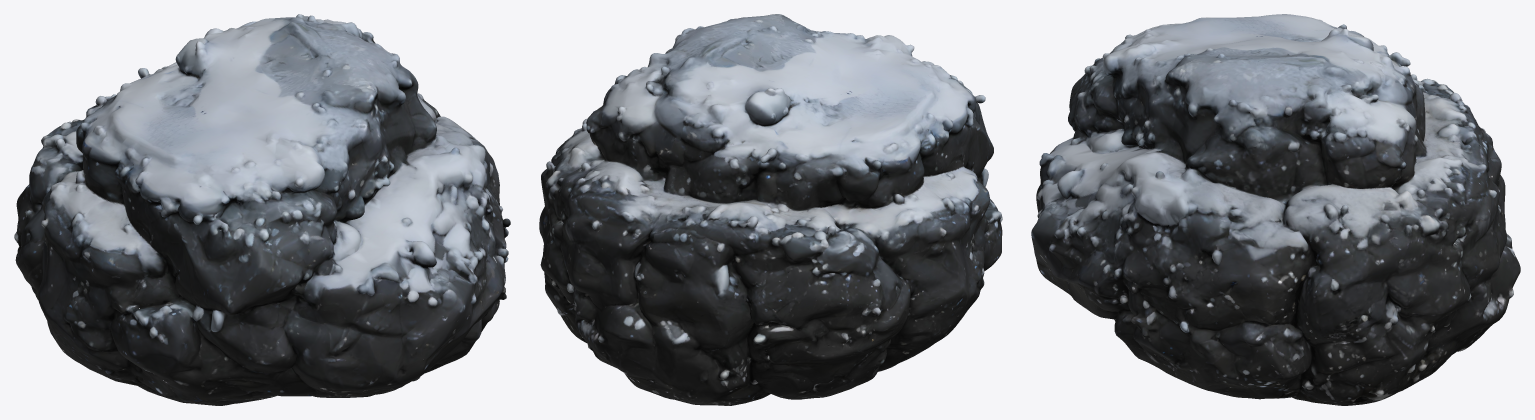
File: nature-rock-snow.glb
3 renders of one model, left to right at view 1: azimuth 30°, elevation 25°; view 2: azimuth 150°, elevation 25°; view 3: azimuth 270°, elevation 25°, orthographic. The views are drawn at different scales.
Visible parts, largest first — view 1: tripo_node_ed6264b4-f6ec-4f06-a222-4a5d34c3f6e9; view 2: tripo_node_ed6264b4-f6ec-4f06-a222-4a5d34c3f6e9; view 3: tripo_node_ed6264b4-f6ec-4f06-a222-4a5d34c3f6e9.
Boxes of the visible parts, x1,y1,x2,y2 form: tripo_node_ed6264b4-f6ec-4f06-a222-4a5d34c3f6e9: (14, 14, 510, 405); tripo_node_ed6264b4-f6ec-4f06-a222-4a5d34c3f6e9: (539, 14, 1002, 405); tripo_node_ed6264b4-f6ec-4f06-a222-4a5d34c3f6e9: (1031, 14, 1520, 405).
Bounding box in the file's own units: 2.72 × 2 × 2.8.
Materials: 1 (1 with a texture image).
